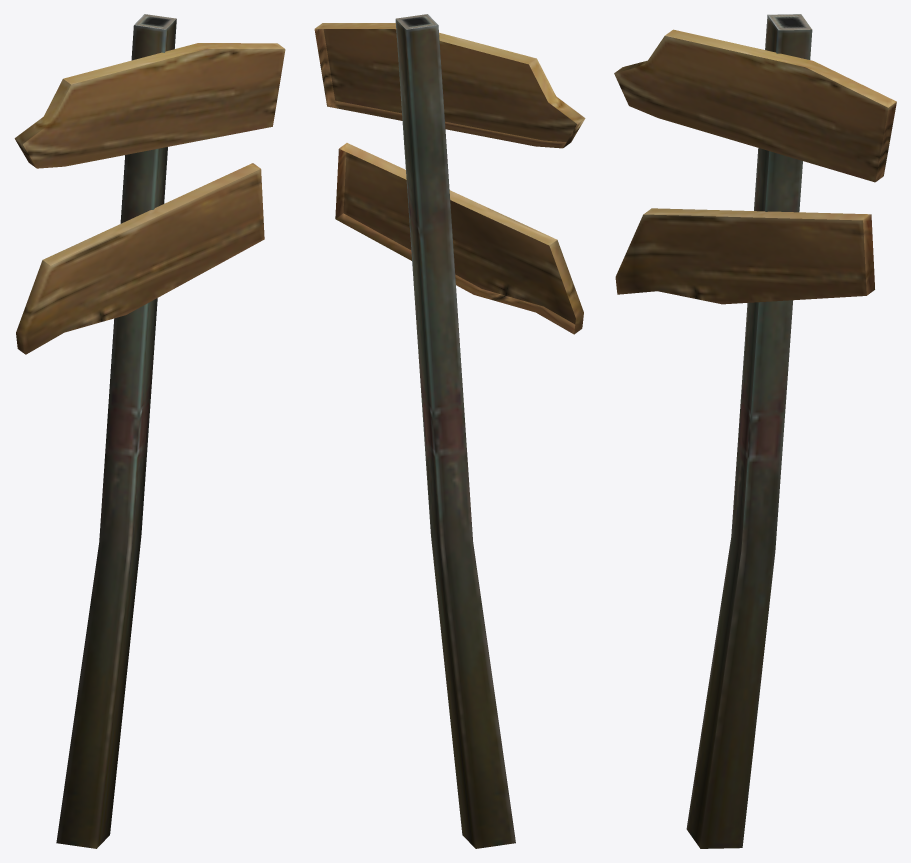
Rendered from obj_lupai.FBX.
3 views of the same model, side by side, from view 1: azimuth 30°, elevation 25°; view 2: azimuth 150°, elevation 25°; view 3: azimuth 330°, elevation 25° (orthographic). The views are drawn at different scales.
Parts seen in each view (by area): view 1: obj_lupai; view 2: obj_lupai; view 3: obj_lupai.
Part boxes in pixels (bbox=[...]): obj_lupai: bbox=[14, 14, 285, 848]; obj_lupai: bbox=[314, 14, 585, 848]; obj_lupai: bbox=[614, 14, 896, 848].
Size of the model in its own units: 55.31 by 11.41 by 162.
